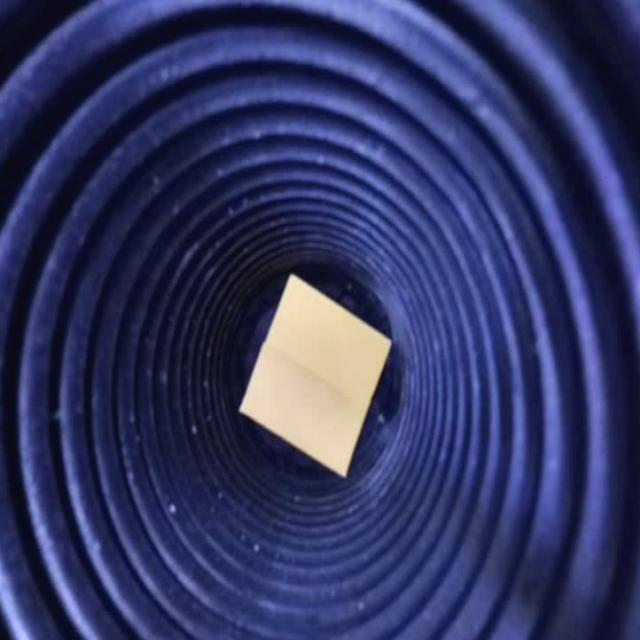obstacles: (236, 260, 390, 480)
